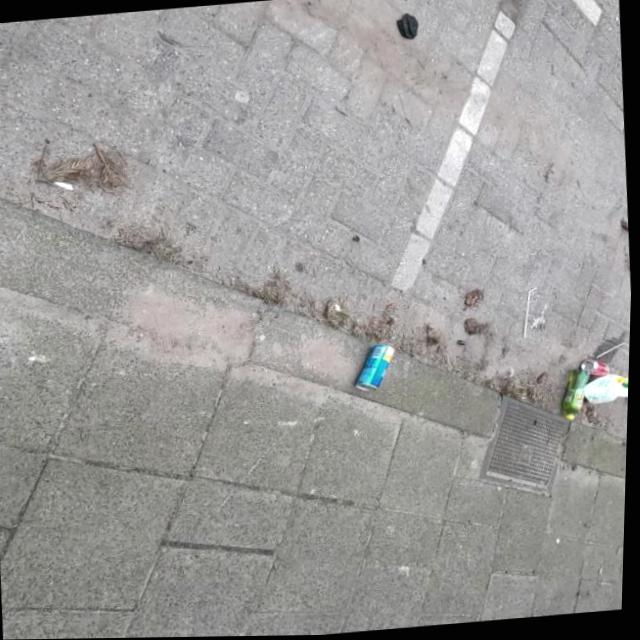Can-Metal: (354, 342, 401, 393), (581, 357, 613, 379)
